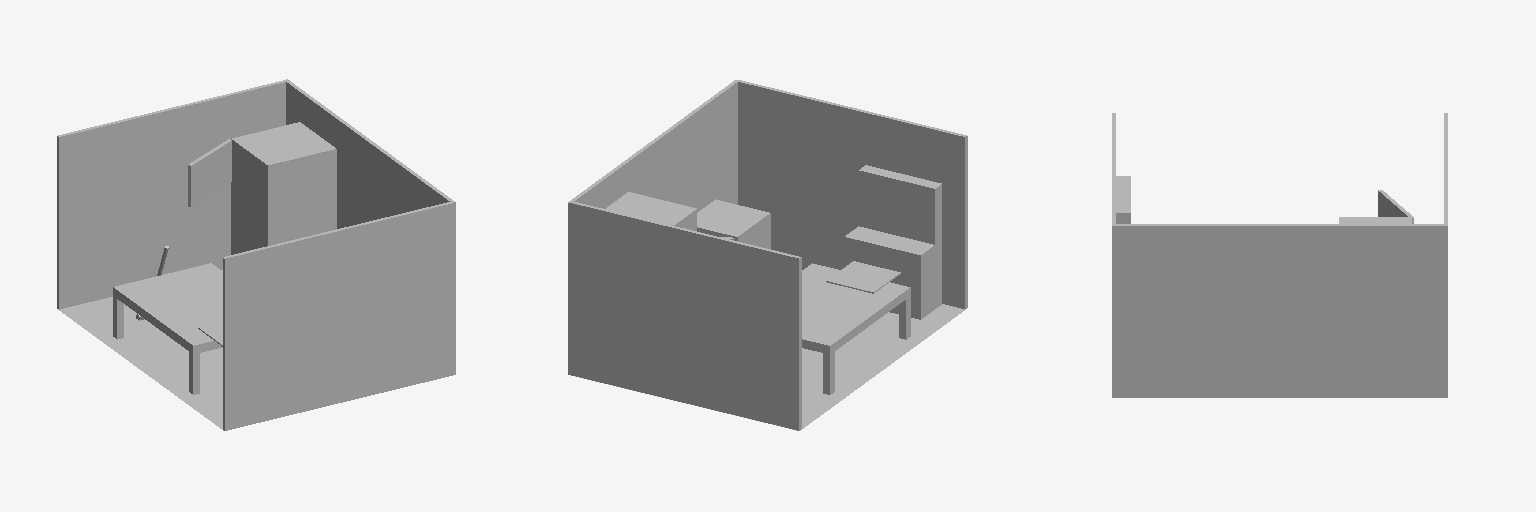
File: Escenario.obj
3 views of the same model, side by side, from view 1: azimuth 30°, elevation 25°; view 2: azimuth 150°, elevation 25°; view 3: azimuth 270°, elevation 25° (orthographic).
Parts seen in each view (by area): view 1: Pared_referencia.002, Pared_referencia.003, Refri.001, Pared_referencia.001, Suelo, Cube.001, Cube; view 2: Pared_referencia.003, Pared_referencia.002, Pared_referencia.001, Cube.003, Cube.001, Suelo, Estufa.001, Refri.001, Plane.002; view 3: Pared_referencia.001, Cube.003, Cube.
Boxes of the visible parts, x1=… form: Pared_referencia.002: x1=223, y1=201, x2=454, y2=430; Pared_referencia.003: x1=57, y1=80, x2=287, y2=309; Refri.001: x1=231, y1=122, x2=336, y2=254; Pared_referencia.001: x1=284, y1=79, x2=455, y2=374; Suelo: x1=58, y1=270, x2=223, y2=430; Cube.001: x1=113, y1=263, x2=222, y2=394; Cube: x1=188, y1=139, x2=231, y2=206; Pared_referencia.003: x1=570, y1=201, x2=801, y2=430; Pared_referencia.002: x1=736, y1=80, x2=967, y2=308; Pared_referencia.001: x1=568, y1=80, x2=737, y2=375; Cube.003: x1=844, y1=165, x2=941, y2=319; Cube.001: x1=802, y1=263, x2=910, y2=394; Suelo: x1=575, y1=304, x2=965, y2=430; Estufa.001: x1=697, y1=199, x2=770, y2=248; Refri.001: x1=606, y1=192, x2=696, y2=230; Plane.002: x1=826, y1=261, x2=900, y2=293; Pared_referencia.001: x1=1112, y1=224, x2=1447, y2=397; Cube.003: x1=1116, y1=176, x2=1130, y2=223; Cube: x1=1378, y1=190, x2=1413, y2=223.
Size of the model in its own units: 6.05 by 4.34 by 7.62.